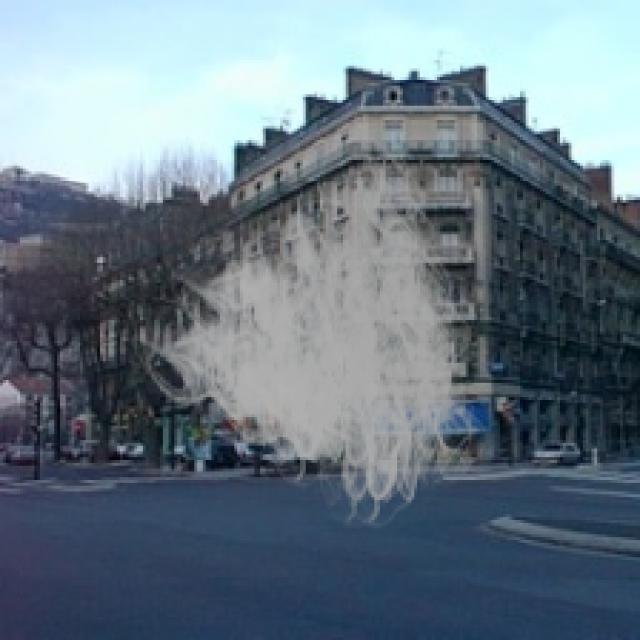smoke: (134, 120, 497, 540)
